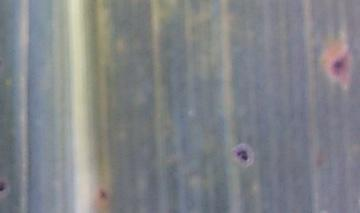tarspot: (329, 58, 348, 77), (235, 149, 249, 161), (98, 190, 108, 200), (1, 178, 7, 193)
